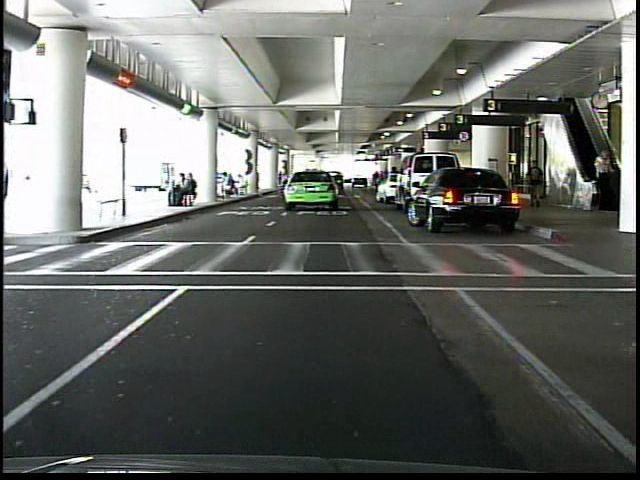person: (590, 145, 614, 209), (524, 154, 547, 214)
